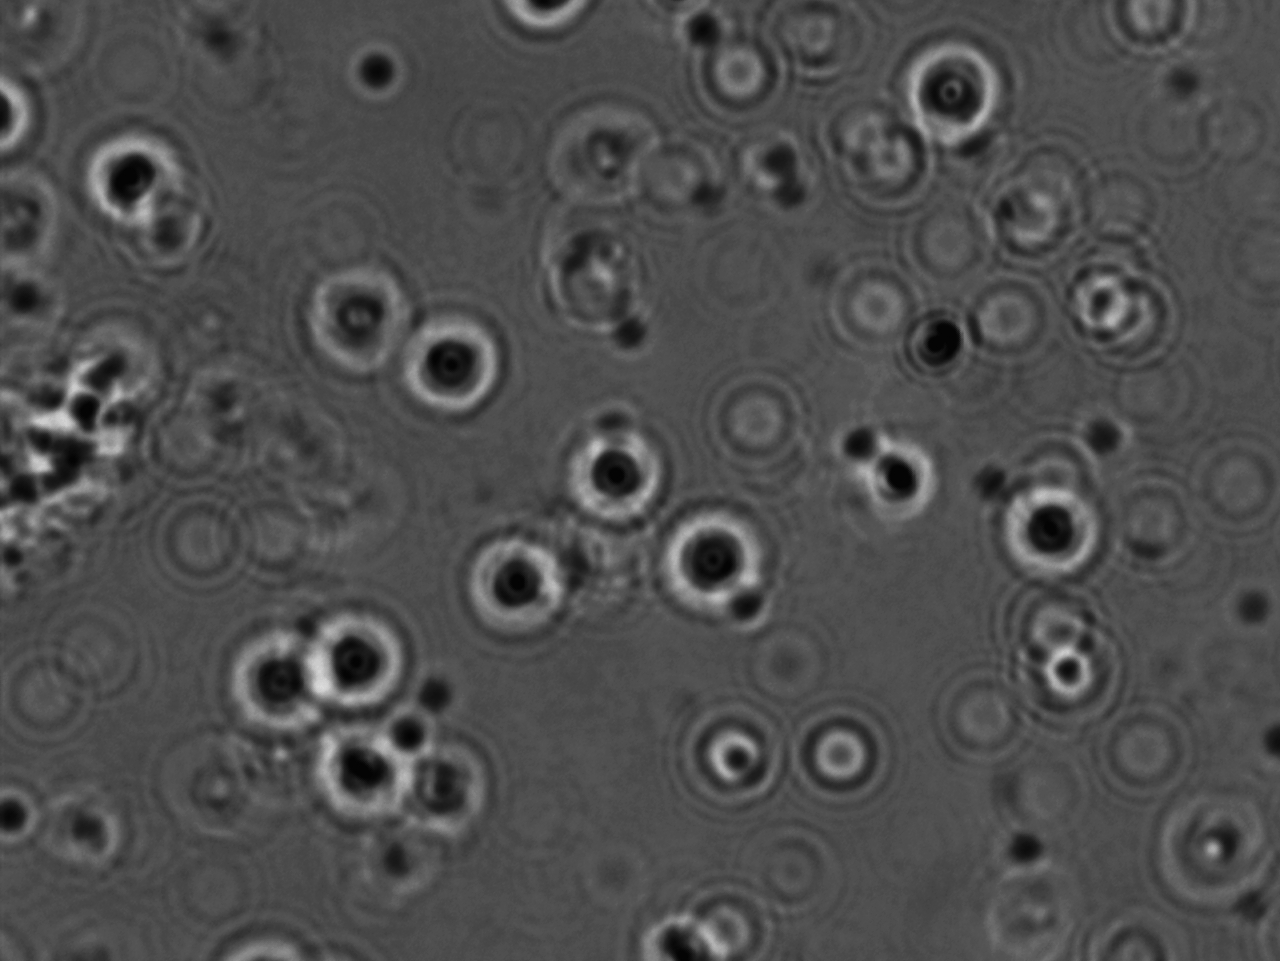depth:-16: (549, 408, 685, 541), (975, 467, 1105, 603), (205, 616, 341, 745), (276, 589, 412, 716), (645, 501, 781, 625), (76, 109, 200, 238), (396, 297, 516, 418), (455, 522, 575, 642), (891, 30, 1011, 148), (312, 719, 439, 827)
